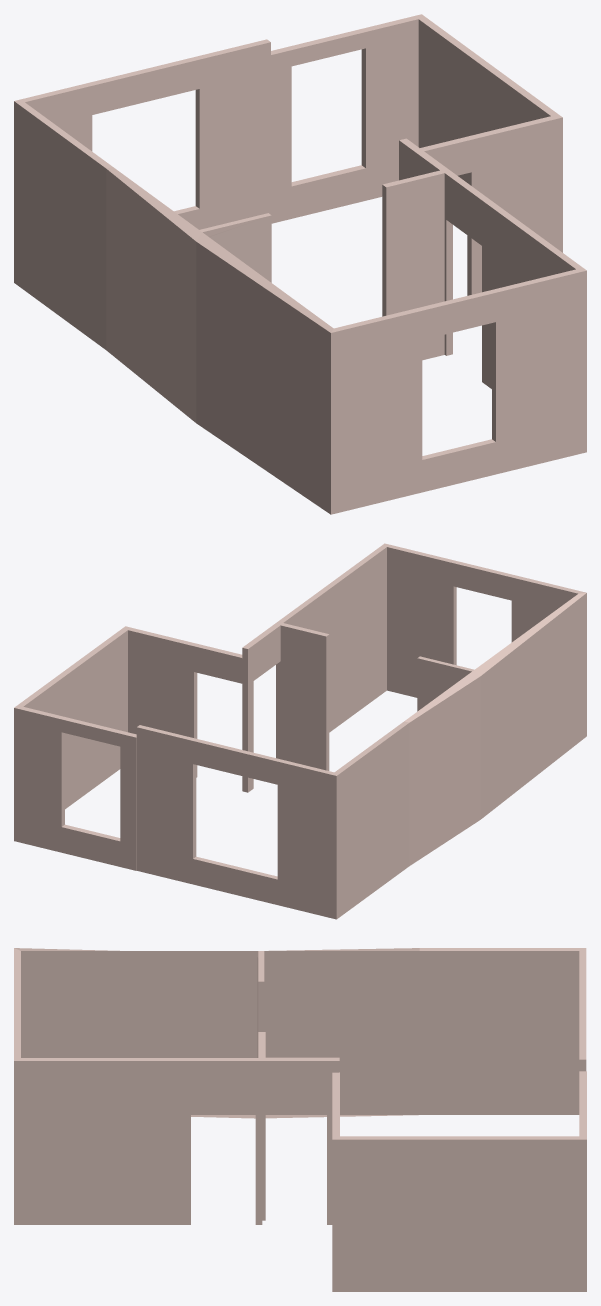
Rendered from salle.fbx.
3 renders of one model, top to bottom at view 1: azimuth 30°, elevation 25°; view 2: azimuth 150°, elevation 25°; view 3: azimuth 270°, elevation 25°, orthographic. The views are drawn at different scales.
Visible parts, largest first — view 1: Salle, Cuisine; view 2: Salle, Cuisine; view 3: Salle, Cuisine.
Part boxes in pixels (<box>): Salle: <box>14,39,586,514</box>; Cuisine: <box>271,14,562,295</box>; Salle: <box>136,543,586,919</box>; Cuisine: <box>14,626,242,870</box>; Salle: <box>14,948,586,1224</box>; Cuisine: <box>332,1071,586,1291</box>.
Bounding box in the file's own units: 658 × 291 × 886.
